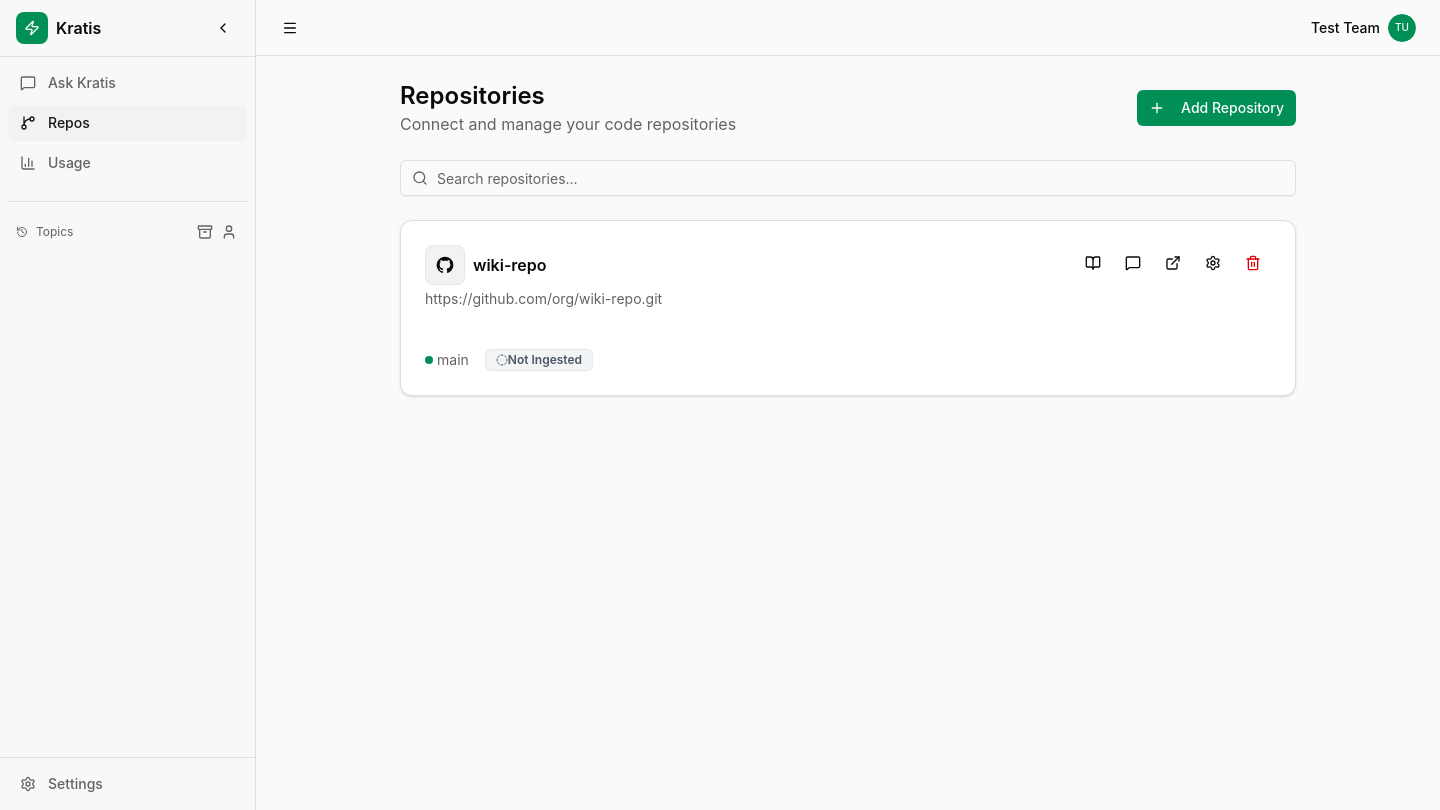
Test case: Repository Card Coverage › navigates to wiki when clicking view wiki
Expected: the text "wiki-repo" is shown, [473,253,546,277]
Click the button named "view wiki" at coordinates (1093, 263), box [1075,245,1111,281]
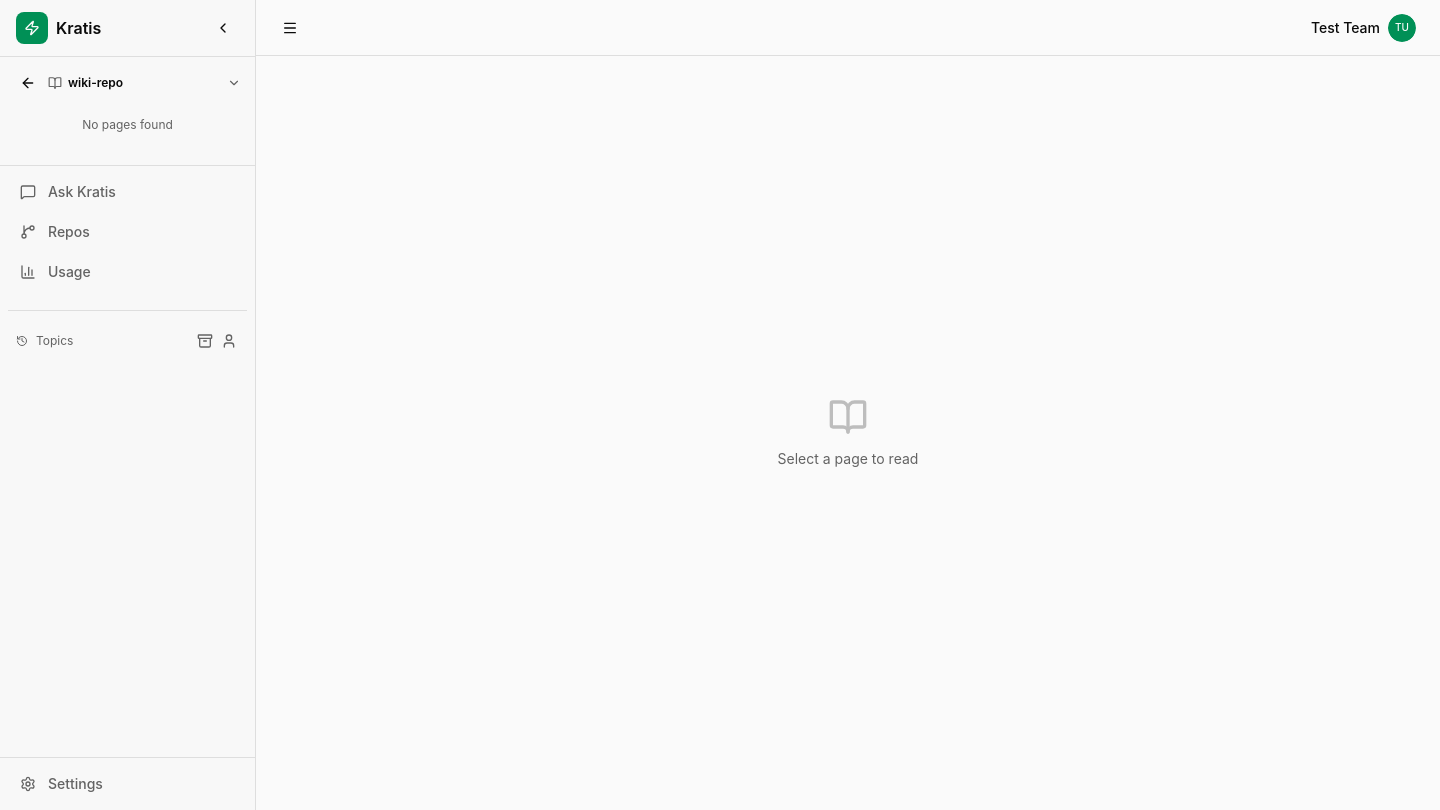
Result: the text "No pages found" is shown at [82,117,173,132]
